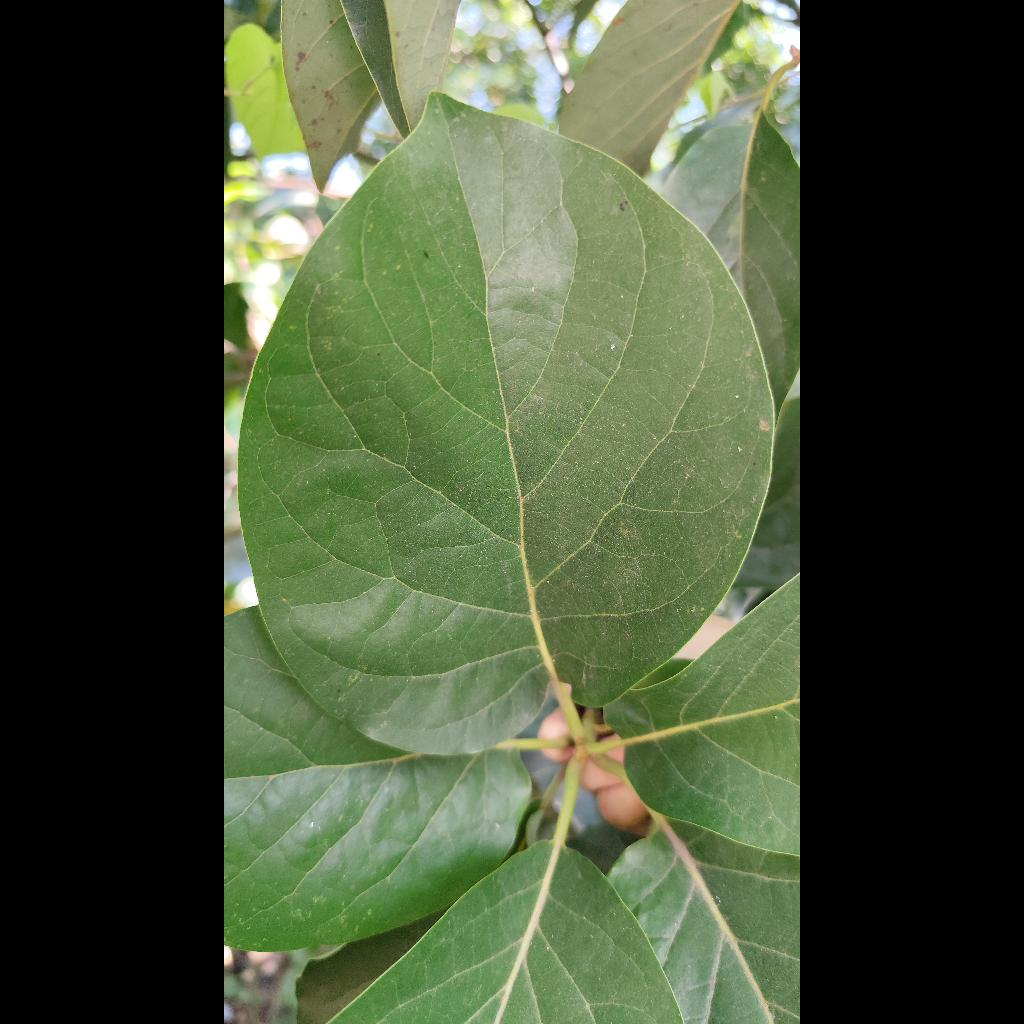Healthy: (240, 95, 772, 754)
